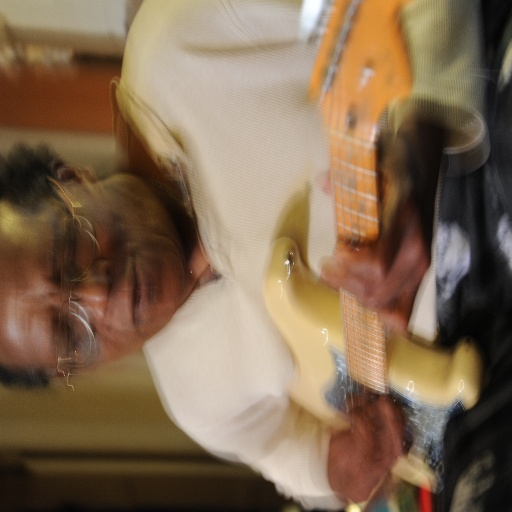hand: (315, 115, 435, 336), (323, 405, 431, 498)
